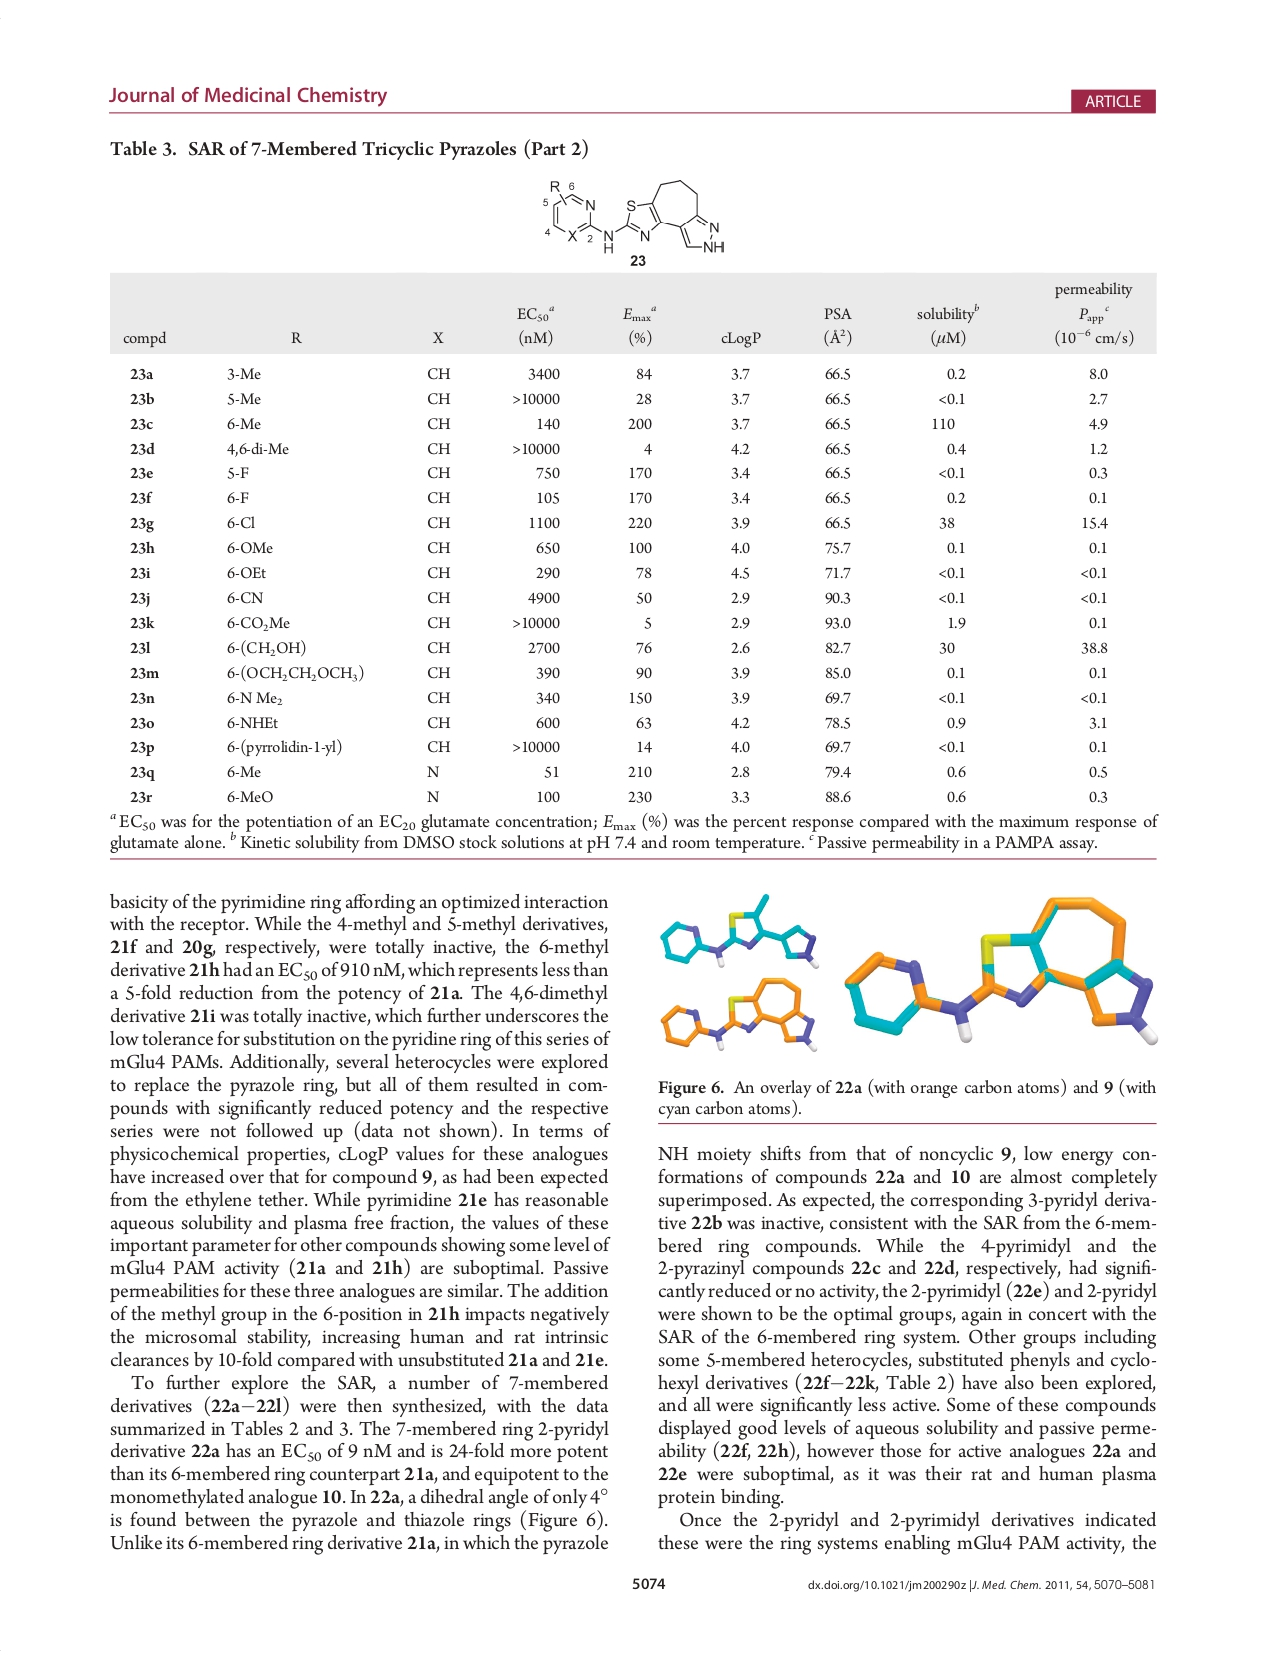exist_molecular: (548, 176, 727, 255)
